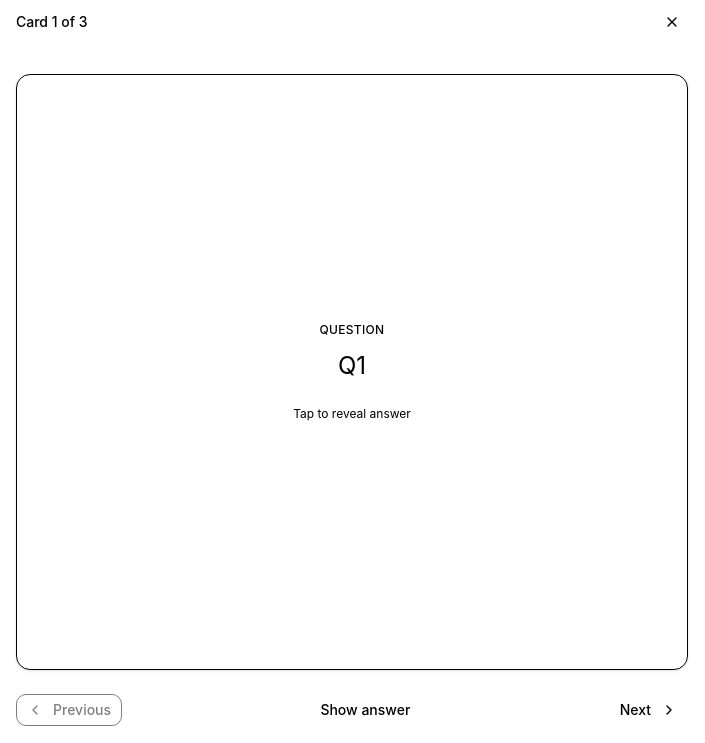
StudyMode › shows the complete view after the last card
The image size is (705, 743).
Expected: the text "Q1" is shown, [338,351,366,380]
Click the button "Next" at (648, 710), box [609,694,688,726]
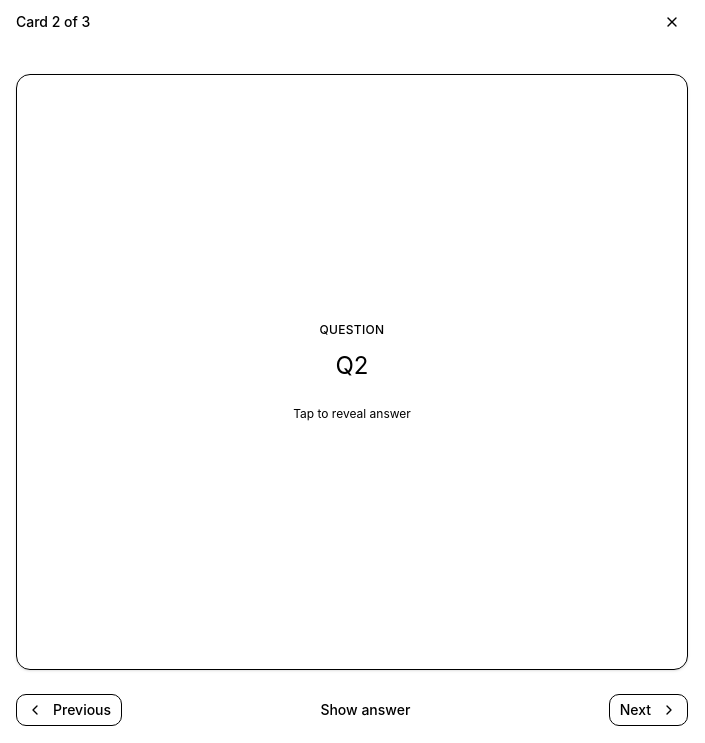
Click the button "Next" at (648, 710), box [609,694,688,726]
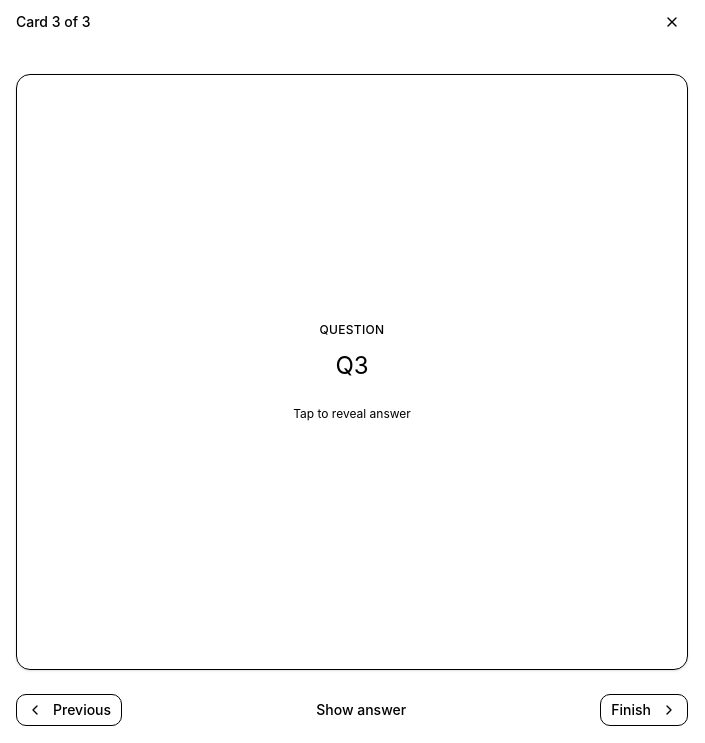
Click the button "Finish" at (644, 710), box [600,694,688,726]
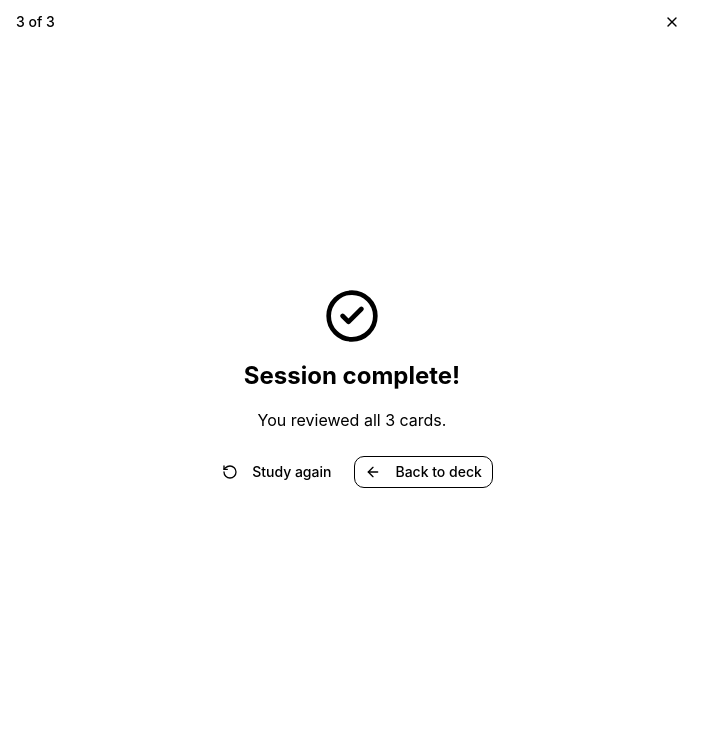
Expected: the heading "Session complete!" is shown, [244,360,460,392]
Expected: the text "You reviewed all 3 cards." is shown, [258,408,446,432]
